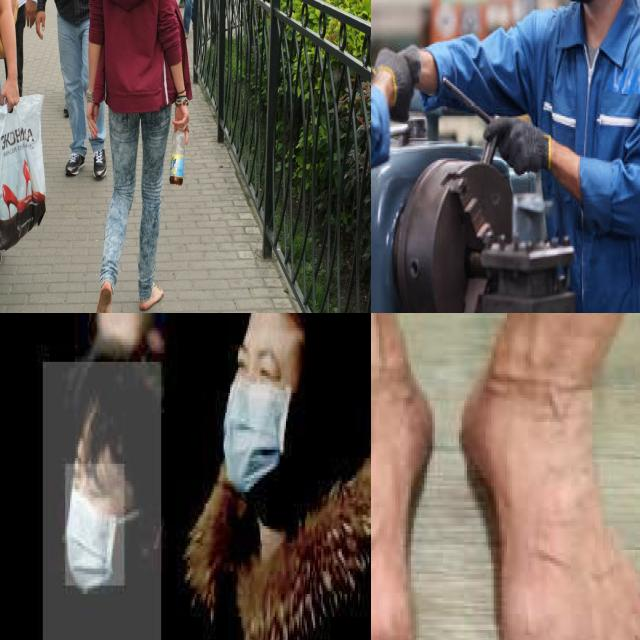Barefoots: (464, 387, 640, 640), (371, 366, 459, 640), (139, 283, 164, 311), (95, 281, 113, 313)
face_mask: (220, 334, 298, 489), (66, 464, 124, 586)
hand_glove: (484, 118, 550, 175), (374, 46, 422, 122)
head_nohelmet: (239, 313, 321, 333)
person: (166, 313, 371, 640), (43, 361, 163, 640)
